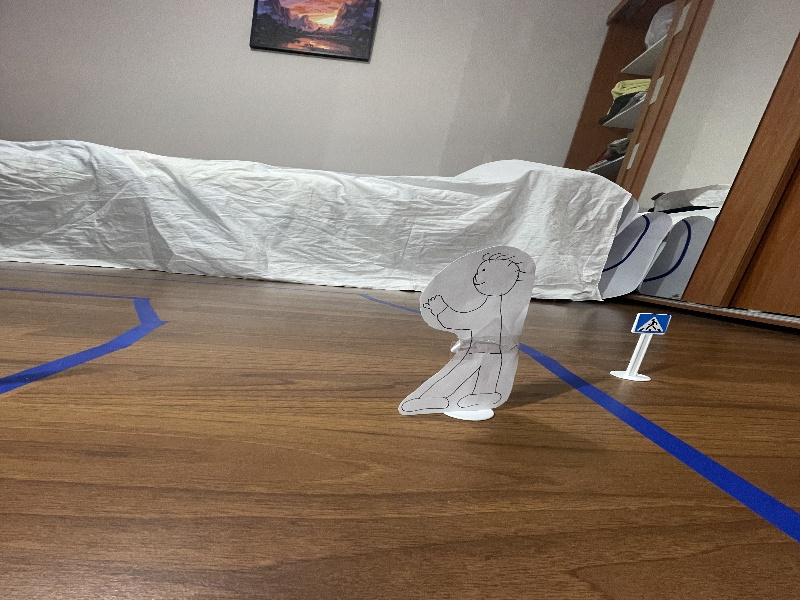persoana: (390, 231, 545, 432)
trecere_pietoni: (628, 303, 677, 340)
